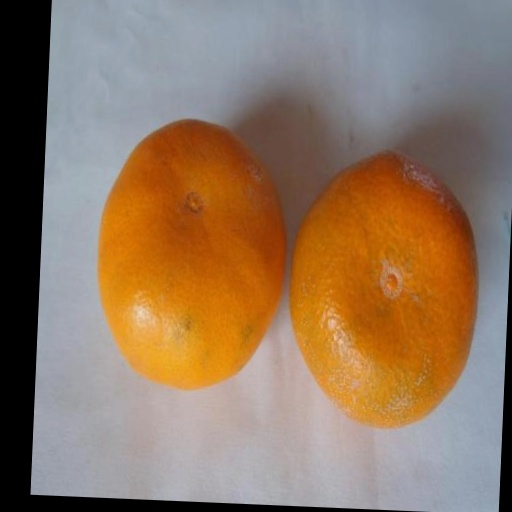fruit: (290, 152, 477, 427), (98, 120, 285, 389)
